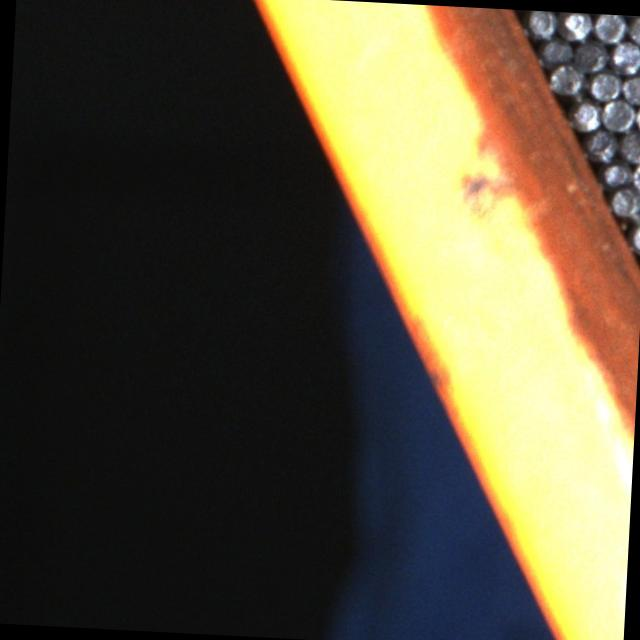tool: (600, 95, 636, 132), (550, 61, 586, 96), (572, 38, 608, 72), (584, 126, 618, 162), (568, 96, 602, 132), (588, 66, 622, 101), (540, 32, 574, 66), (608, 38, 640, 74), (592, 14, 628, 44), (600, 156, 633, 188), (609, 185, 640, 219), (558, 12, 594, 41), (525, 10, 558, 38), (616, 127, 640, 162), (620, 69, 640, 105), (627, 16, 640, 45), (633, 156, 640, 191)
